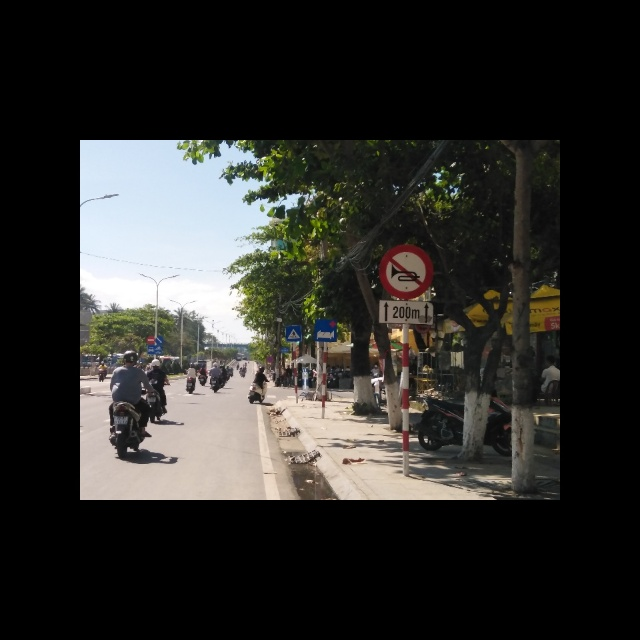Bệnh viện: (314, 318, 337, 343)
Cấm bấm còi: (380, 244, 434, 300)
Đường dành cho người đi bộ: (284, 326, 303, 341)
